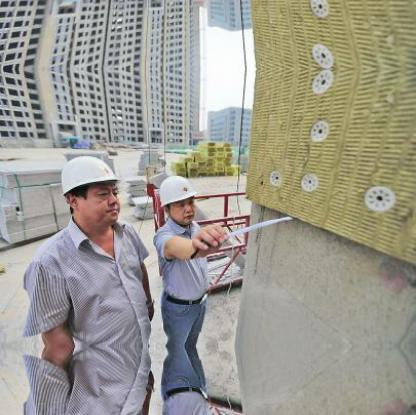helmet: (55, 152, 129, 199), (150, 163, 200, 212)
